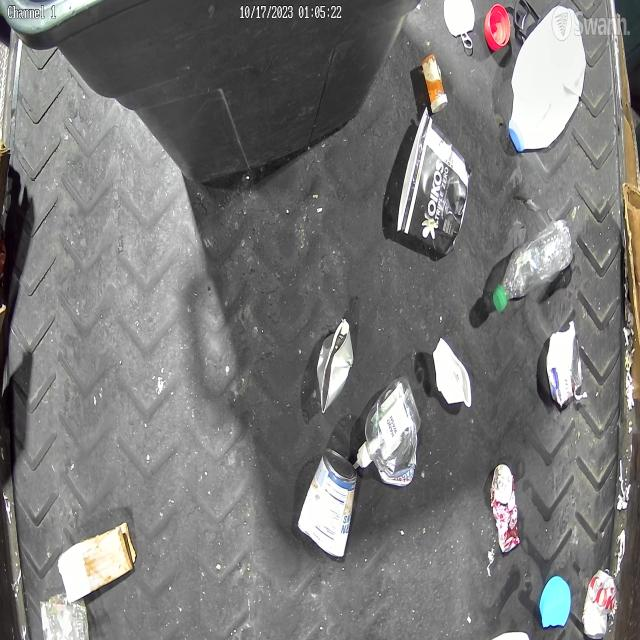can: (297, 450, 358, 560), (317, 317, 355, 413), (490, 464, 521, 554), (582, 566, 620, 639), (547, 328, 581, 404)
milk_jug: (508, 7, 586, 151)
plastic_bottle: (492, 218, 572, 312)
